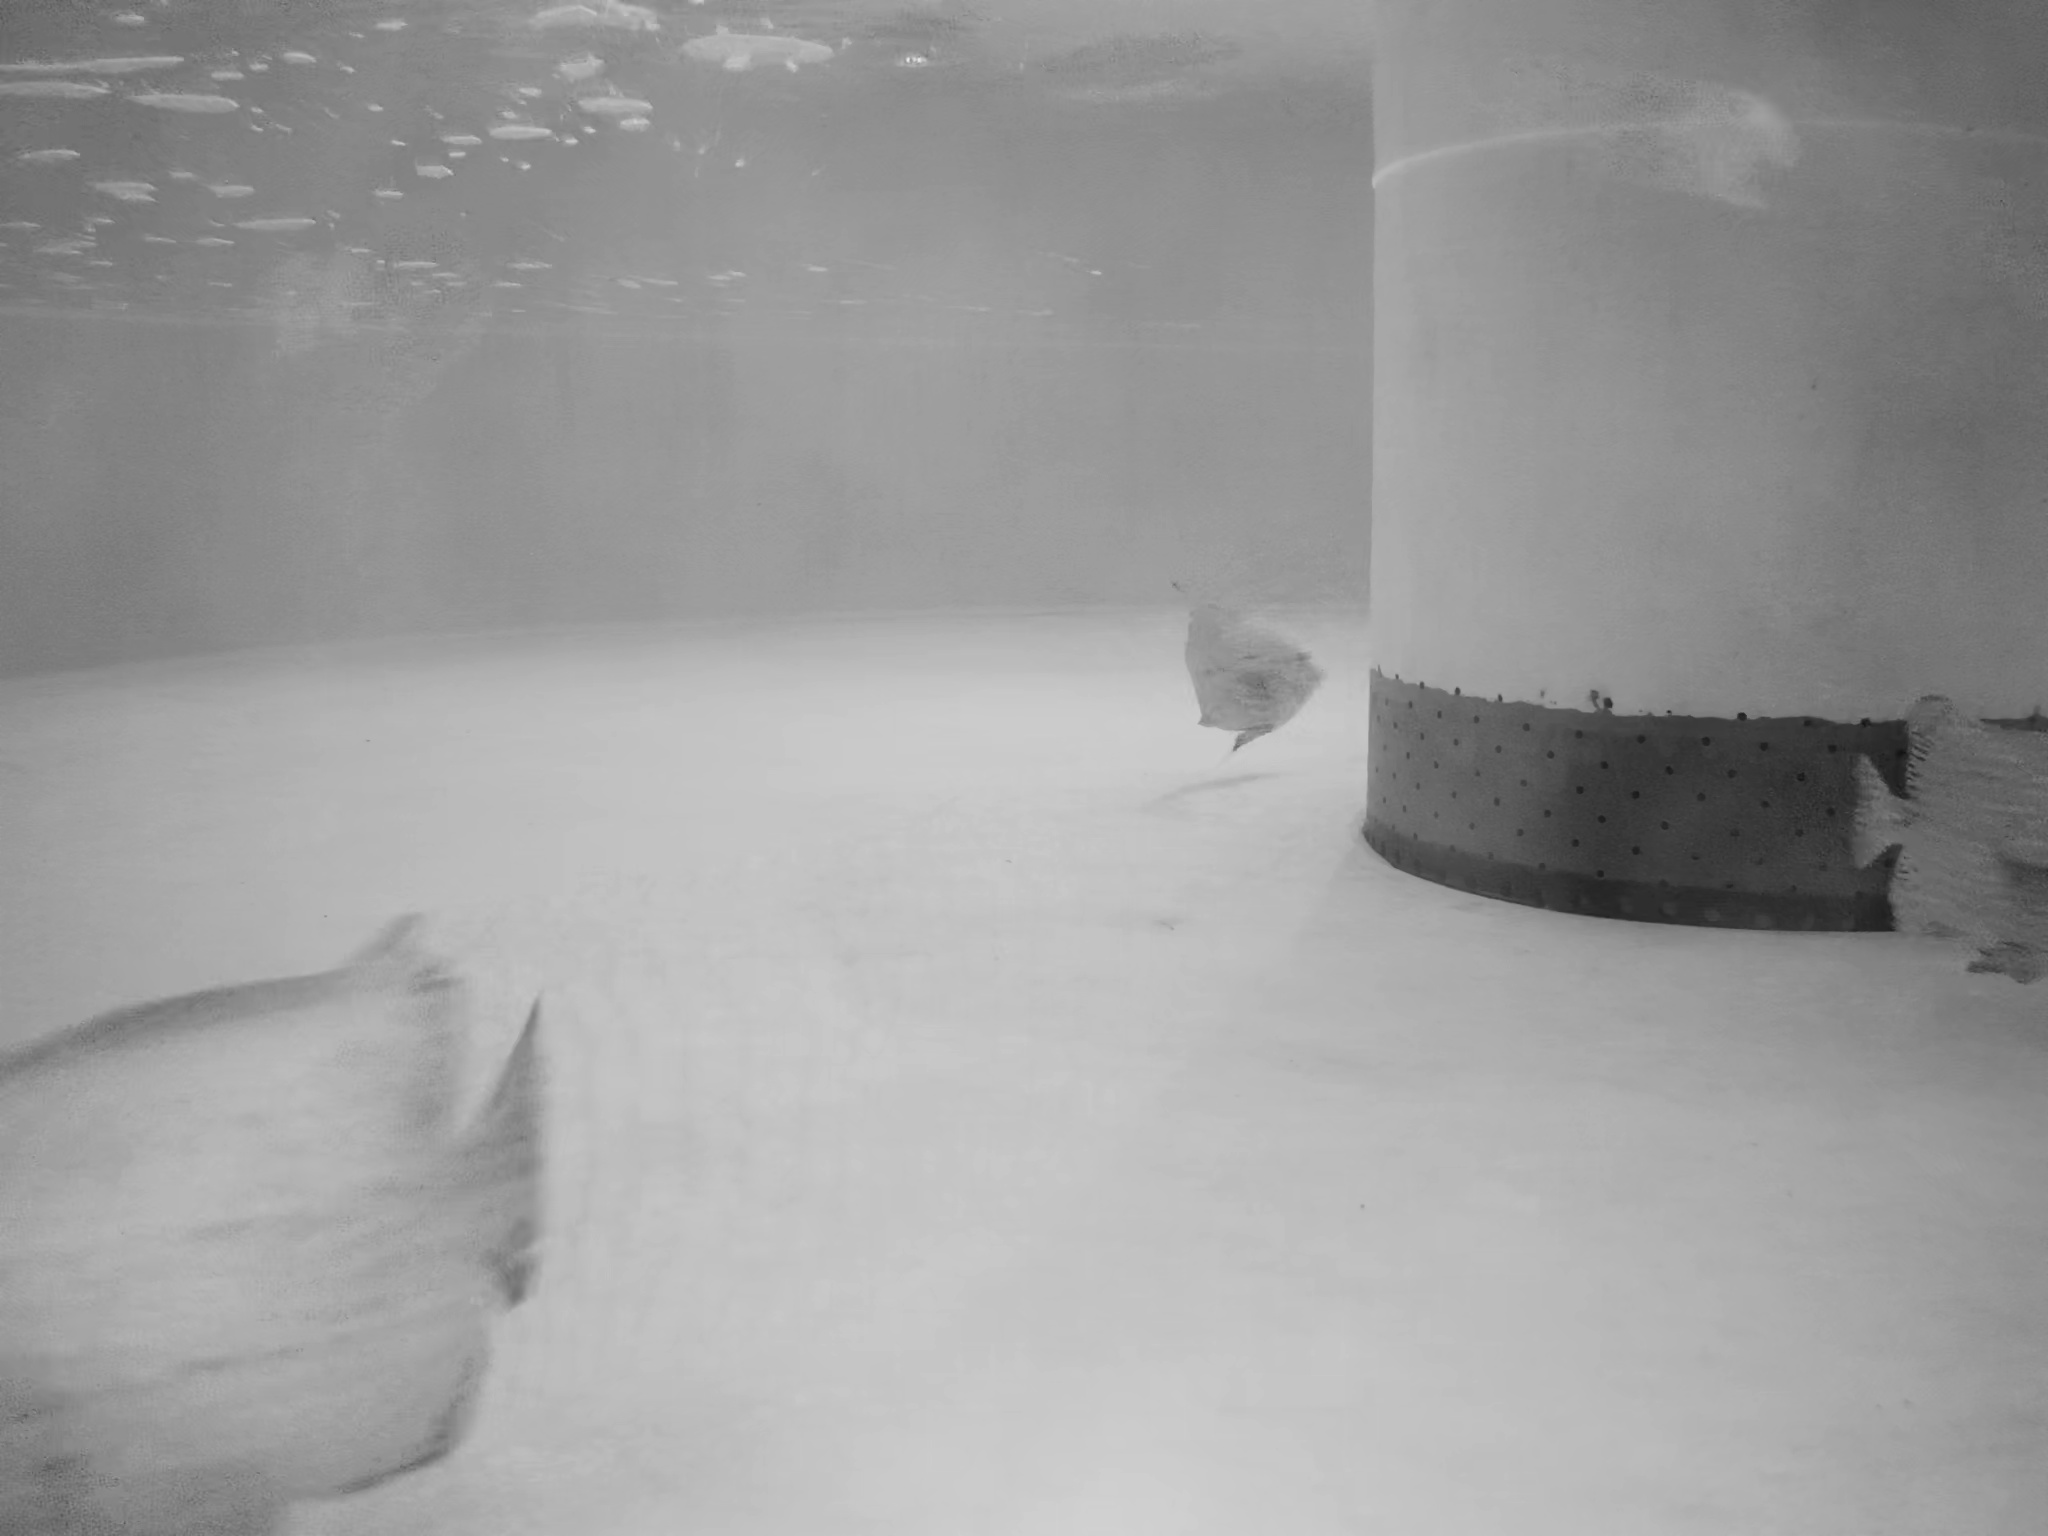fish: (2, 908, 560, 1536), (1843, 707, 2048, 975), (1171, 573, 1321, 744)
